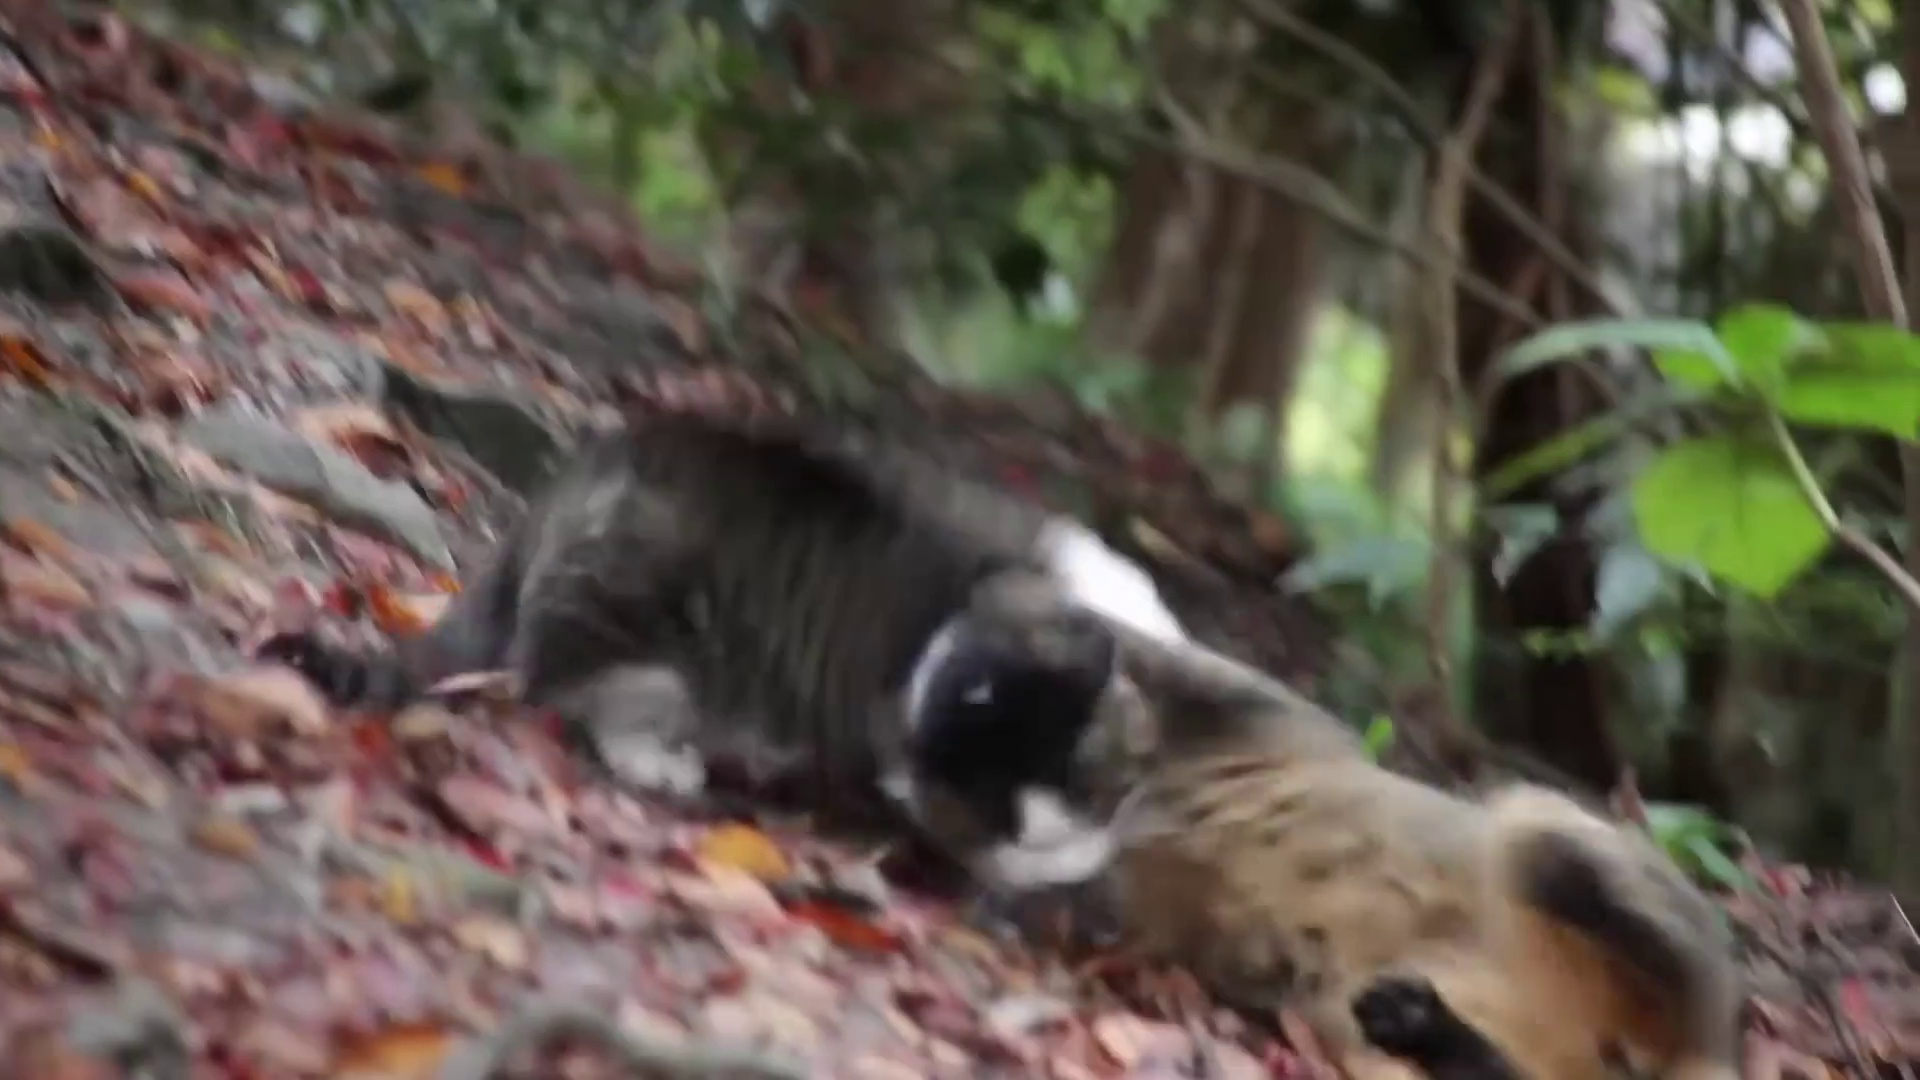black-white: (430, 411, 1197, 887)
pure black: (1015, 591, 1741, 1080)
